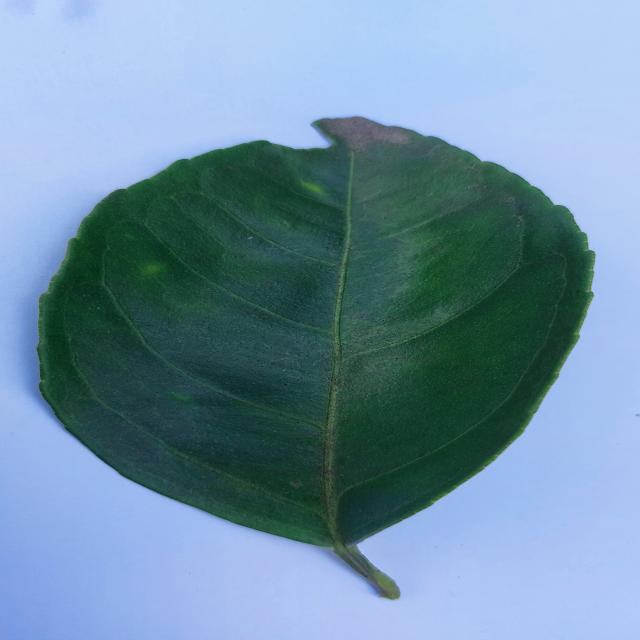greening: (39, 117, 593, 599)
